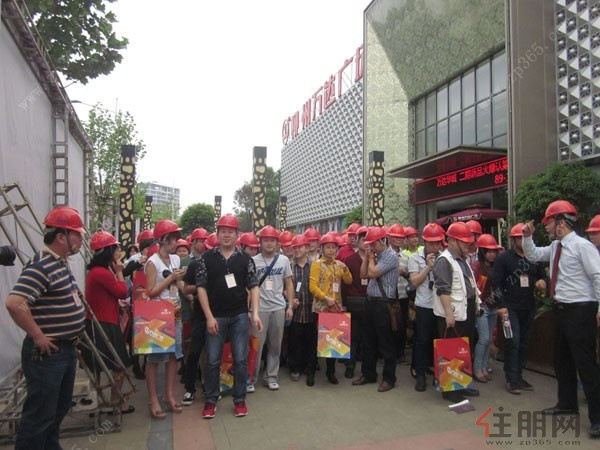none: (126, 244, 138, 258)
red: (41, 205, 85, 256), (540, 200, 577, 240), (89, 228, 123, 265), (446, 222, 473, 254), (215, 213, 240, 247), (154, 220, 179, 253), (421, 222, 444, 253), (476, 232, 500, 261), (509, 222, 532, 250), (366, 226, 388, 255), (257, 225, 278, 254), (238, 231, 259, 256), (290, 234, 310, 260), (386, 222, 404, 249), (585, 215, 600, 247), (189, 227, 208, 252), (303, 226, 320, 253), (319, 234, 338, 257), (137, 231, 155, 255), (278, 229, 294, 256), (402, 225, 420, 247), (355, 224, 369, 252), (466, 221, 481, 246), (174, 238, 191, 258), (346, 222, 360, 246)
